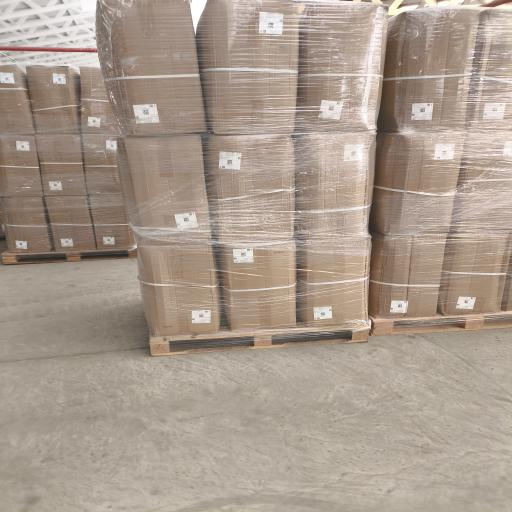pallet: (150, 326, 369, 355), (370, 312, 511, 335), (2, 248, 137, 264)
